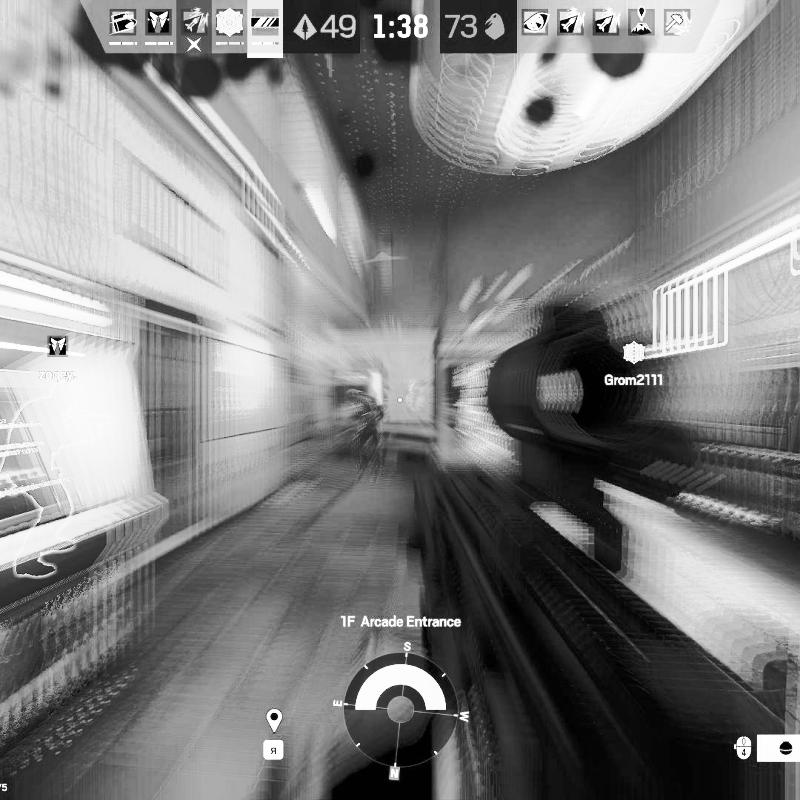Character: (347, 387, 387, 473)
Friend_label: (603, 340, 665, 387), (39, 332, 77, 382)
Head: (349, 389, 362, 404)
